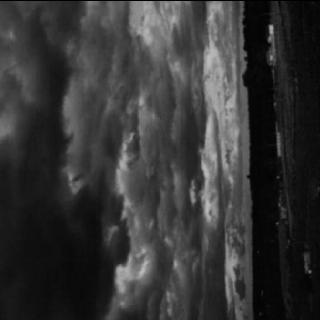Stratus: (0, 0, 249, 320)
